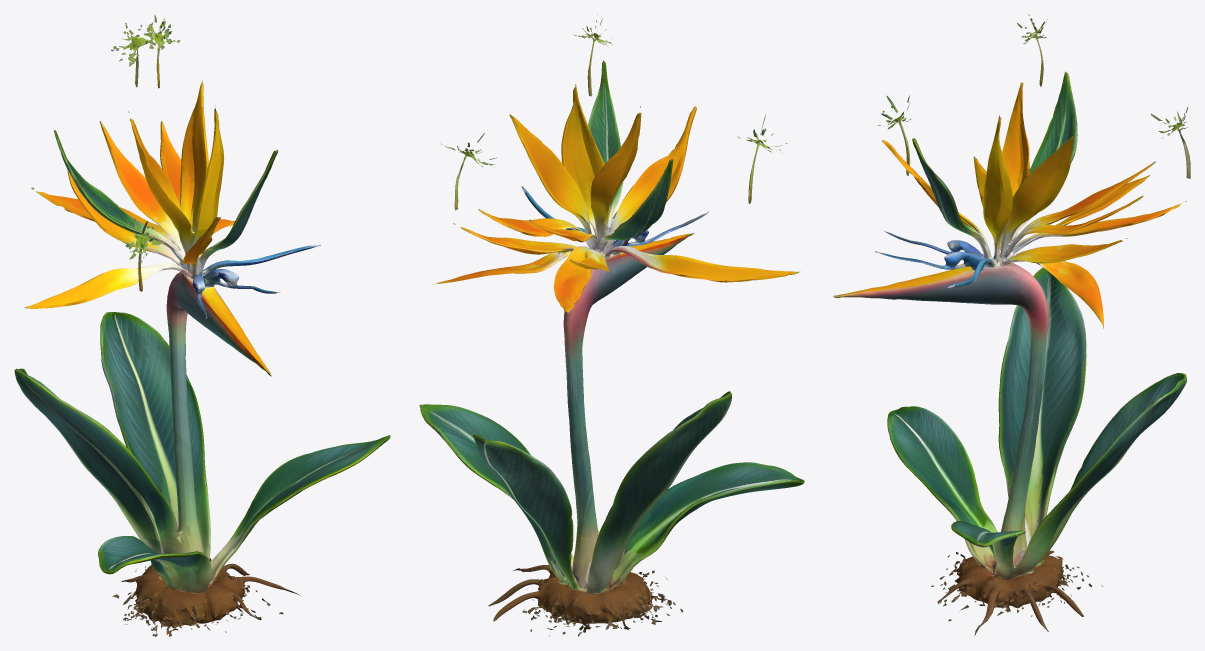
File: veg_tropical_birdofparadise_01.glb
The picture shows the model from 3 angles, left to right: view 1: azimuth 30°, elevation 25°; view 2: azimuth 150°, elevation 25°; view 3: azimuth 270°, elevation 25°; orthographic projection. The views are drawn at different scales.
Visible parts, largest first — view 1: veg_tropical_birdofparadise_01; view 2: veg_tropical_birdofparadise_01; view 3: veg_tropical_birdofparadise_01.
Part boxes in pixels (box(x1,y1,x2,y2)): veg_tropical_birdofparadise_01: box(14, 14, 390, 636); veg_tropical_birdofparadise_01: box(419, 18, 804, 636); veg_tropical_birdofparadise_01: box(833, 14, 1190, 635).
Bounding box in the file's own units: 1.85 × 2.83 × 1.6.
Materials: 1 (1 with a texture image).
